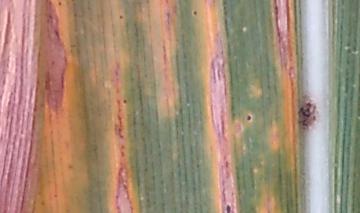tarspot: (224, 203, 233, 213), (245, 114, 253, 123), (118, 14, 125, 21), (192, 9, 198, 16), (122, 98, 128, 105), (56, 1, 61, 6)
